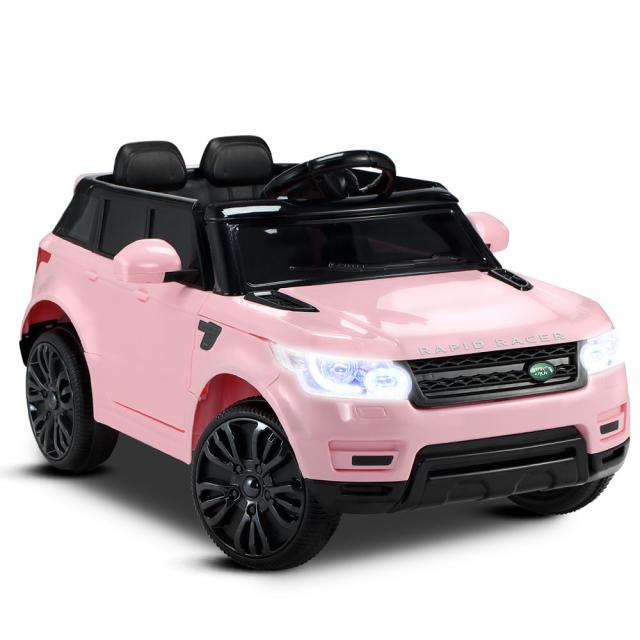Car: (19, 135, 631, 572)
